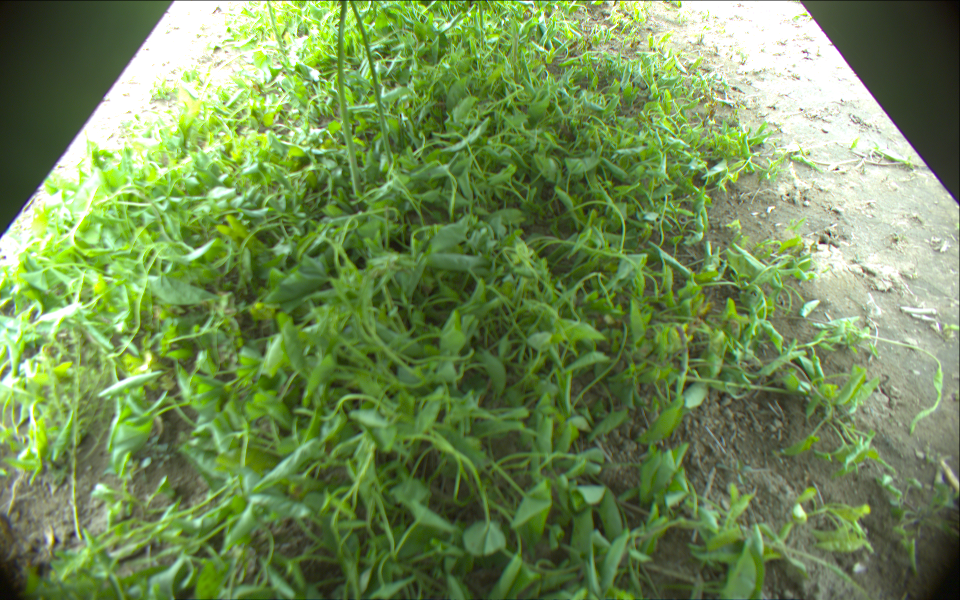aspa: (348, 1, 396, 162), (333, 1, 362, 203), (265, 1, 287, 52), (476, 1, 486, 45)
